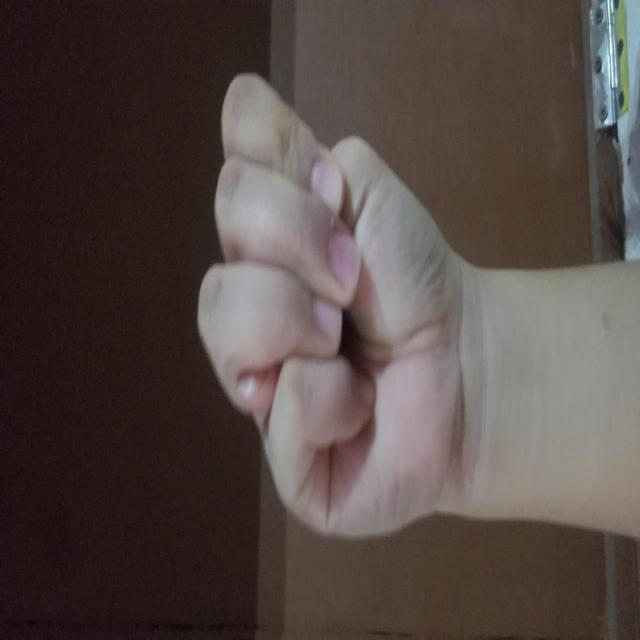M: (101, 197, 564, 451)
